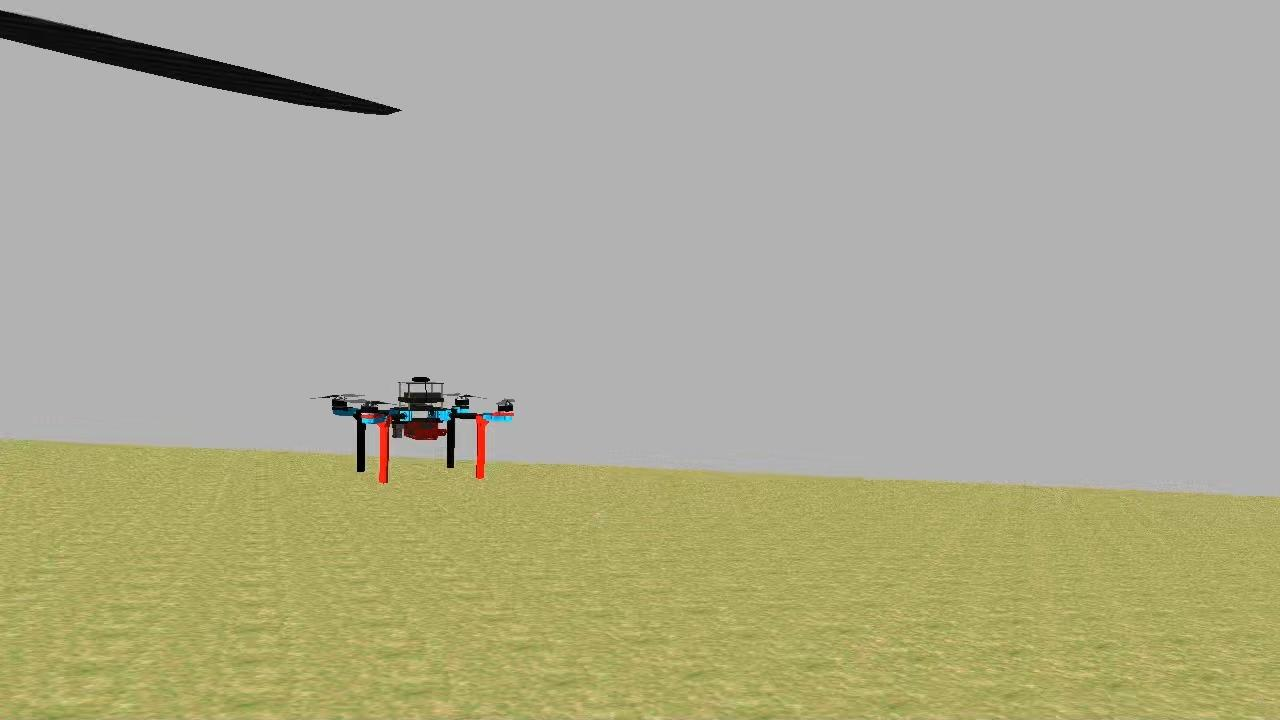UAV: (322, 372, 520, 490)
